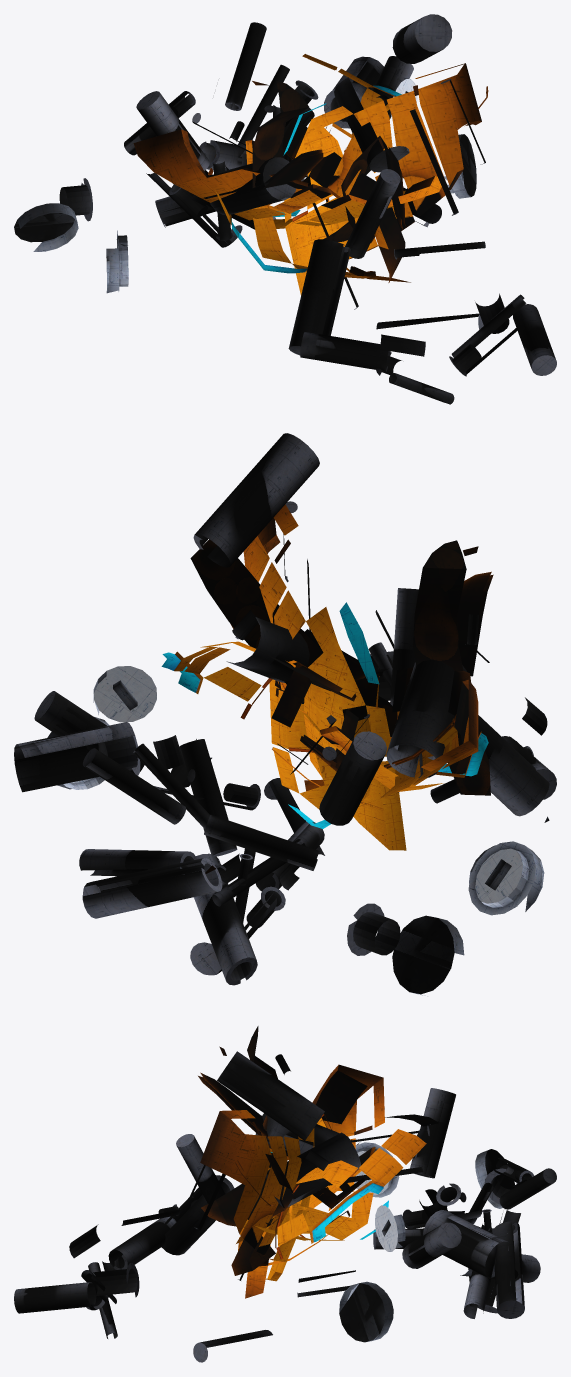
The model's file is MonsterA_die17.obj.
The picture shows the model from 3 angles, top to bottom: view 1: azimuth 30°, elevation 25°; view 2: azimuth 150°, elevation 25°; view 3: azimuth 270°, elevation 25°; orthographic projection. The views are drawn at different scales.
Visible parts, largest first — view 1: Box001; view 2: Box001; view 3: Box001.
Boxes of the visible parts, x1,y1,x2,y2 form: Box001: (14, 14, 556, 404); Box001: (14, 433, 556, 996); Box001: (14, 1026, 556, 1362).
Size of the model in its own units: 388 by 308 by 490.
1 material, 1 textured.
